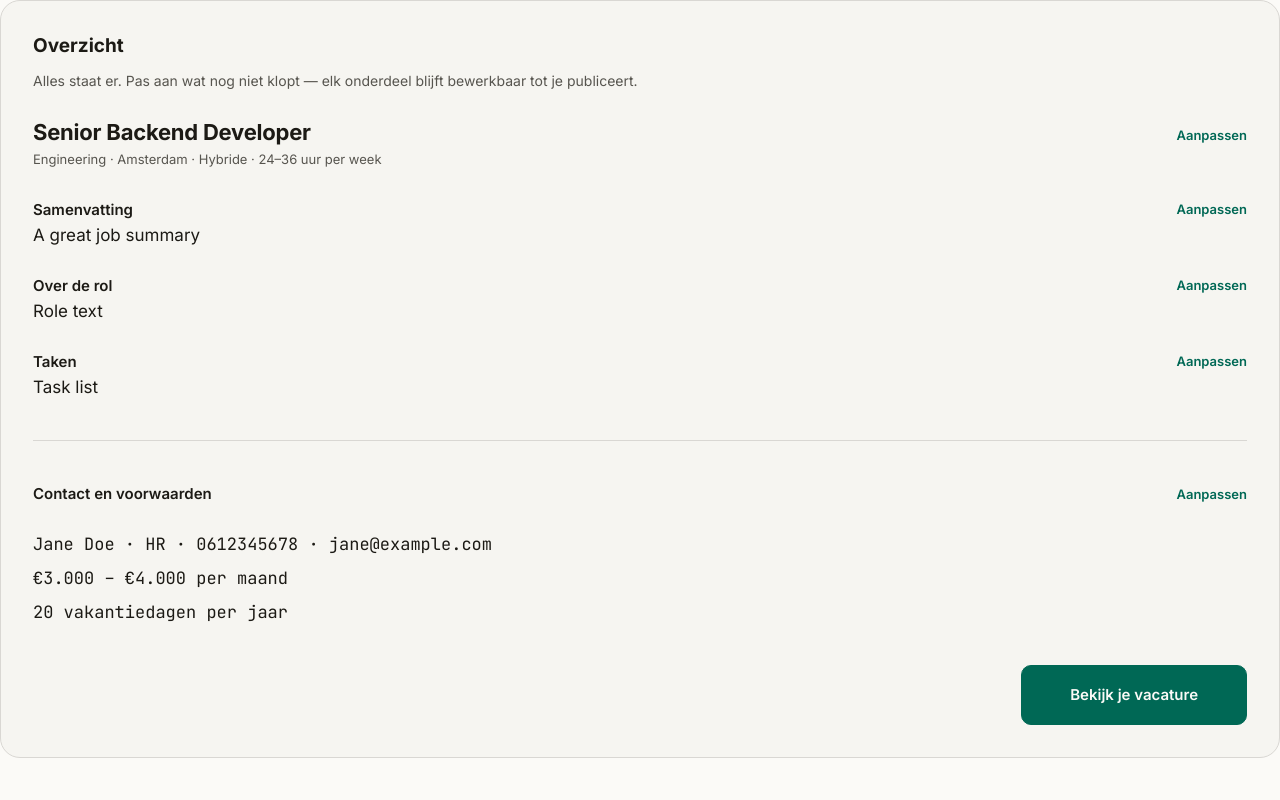
Test: ReviewVacancy › "Aanpassen Samenvatting" swaps only that section into an editable field, prefilled with the current value
The image size is (1280, 800).
Click the button with aria-label "Aanpassen Samenvatting". click: (1212, 209)
box: [1176, 196, 1247, 222]
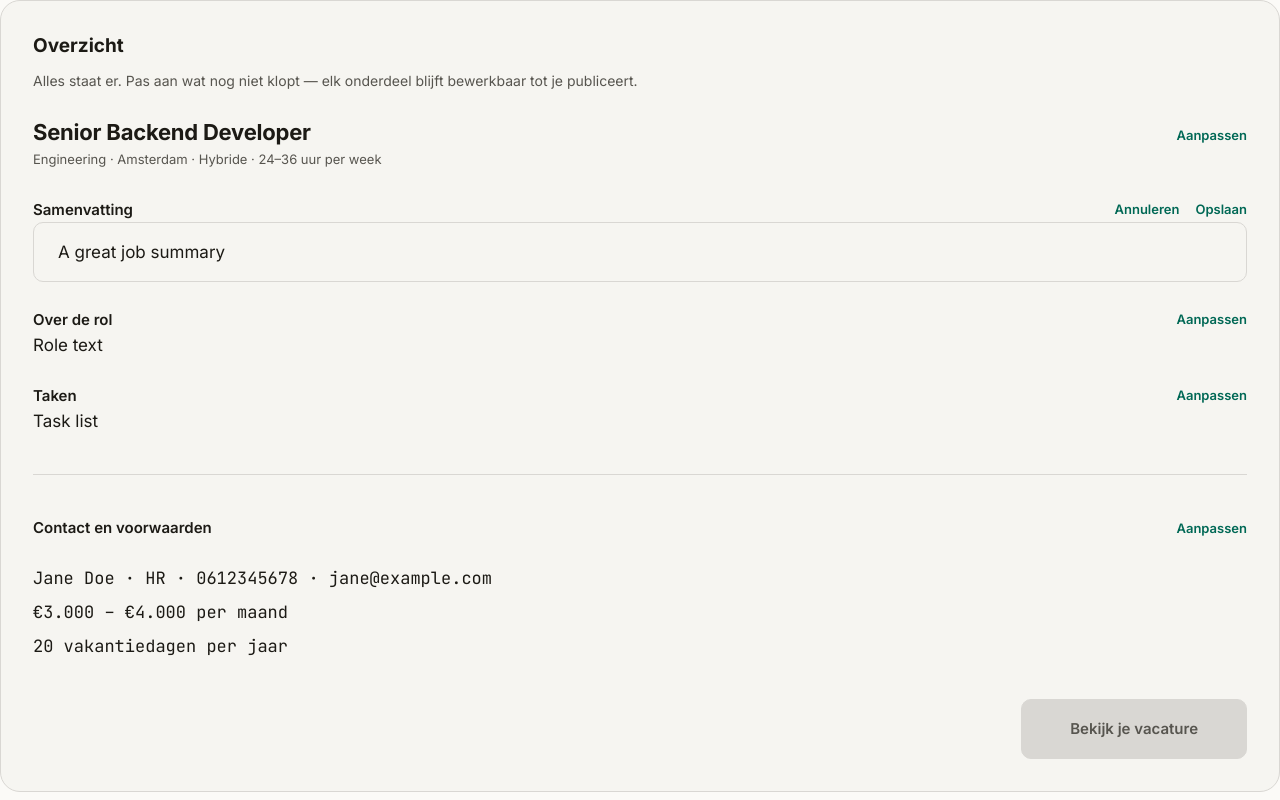
expect the text "Role text" is shown: met, box [33, 335, 103, 355]
expect the field named "Samenvatting" holds "A great job summary": met, box [33, 222, 1247, 282]
